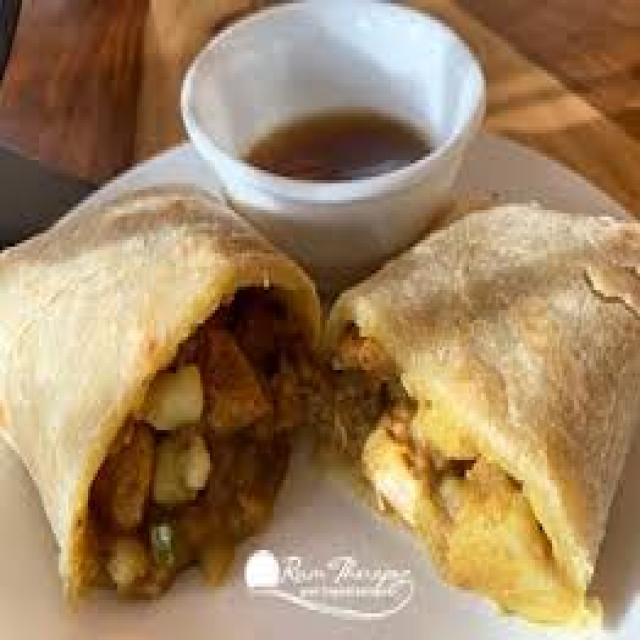SAMOSA: (0, 160, 318, 590), (330, 207, 638, 593)
